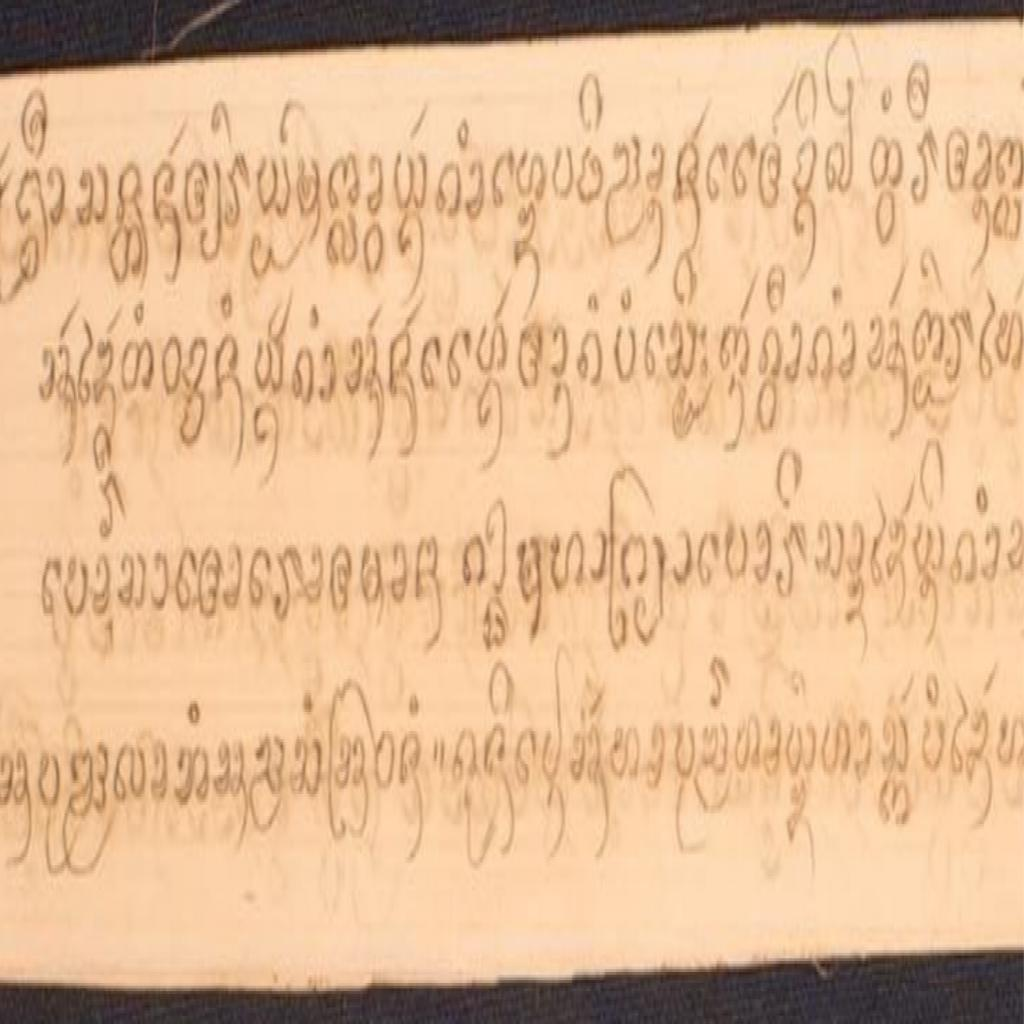LN023: (213, 327, 242, 399)
